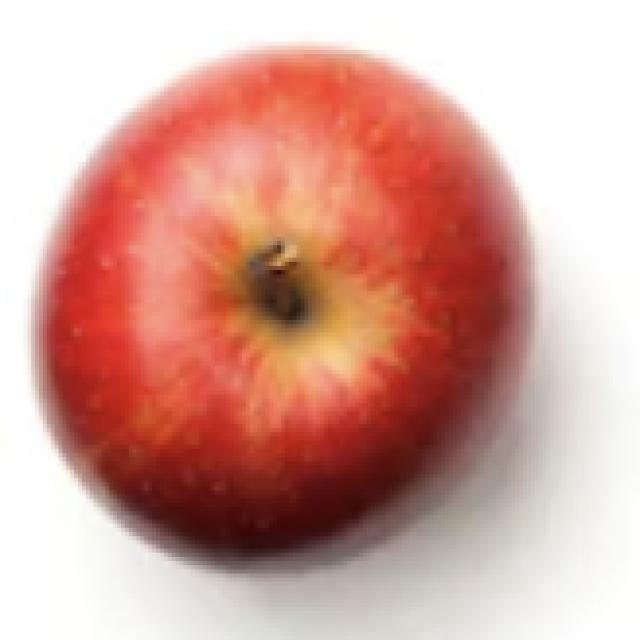Fresh Apple: (40, 62, 513, 535)
